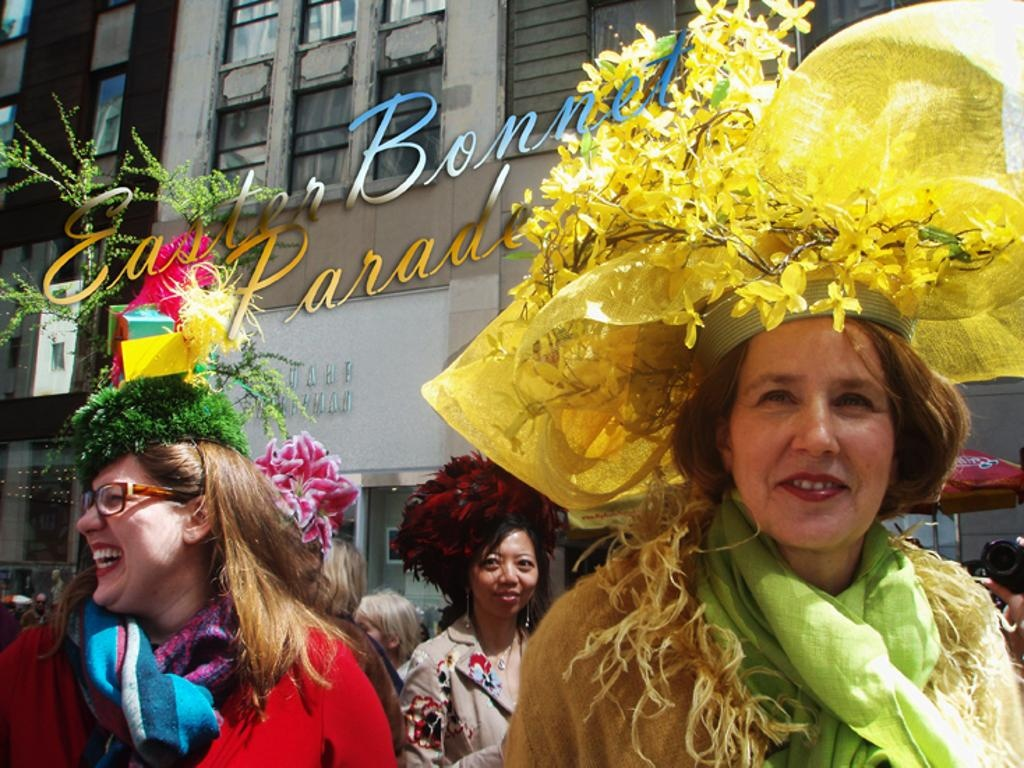human_face: (732, 320, 892, 550), (78, 456, 186, 602), (468, 530, 538, 612)
